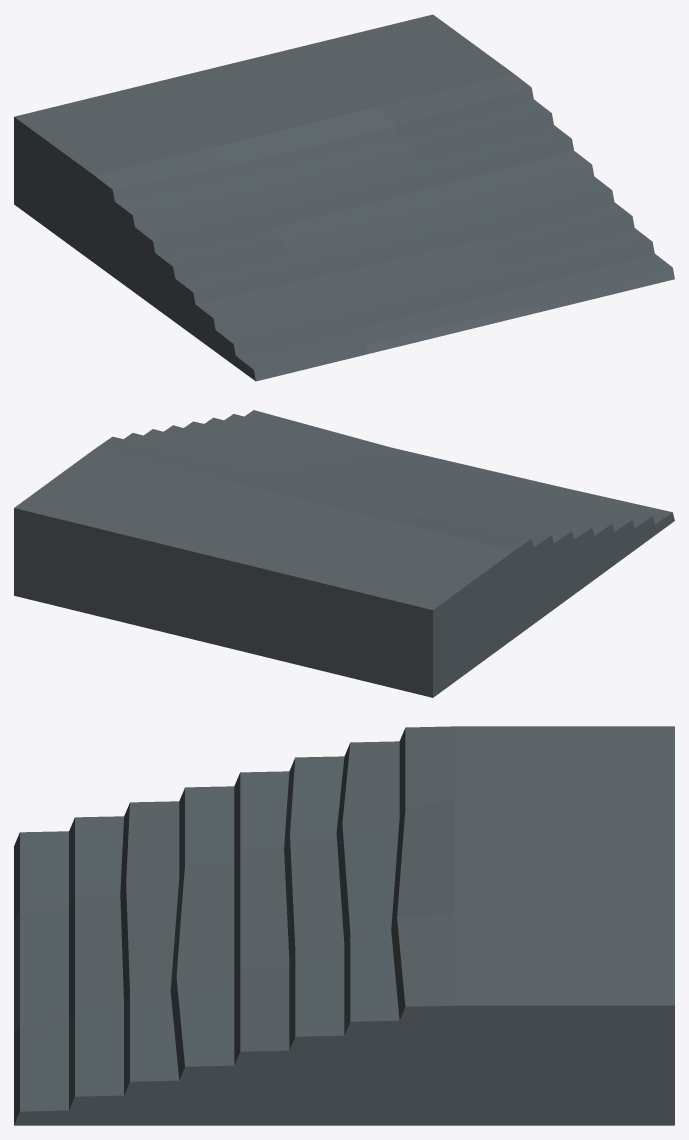
Rendered from SM_Env_Steps_01.FBX.
3 views of the same model, one above another, from view 1: azimuth 30°, elevation 25°; view 2: azimuth 150°, elevation 25°; view 3: azimuth 270°, elevation 25° (orthographic). The views are drawn at different scales.
Parts seen in each view (by area): view 1: SM_Env_Steps_01; view 2: SM_Env_Steps_01; view 3: SM_Env_Steps_01.
Part boxes in pixels (left/top/right/bottom): SM_Env_Steps_01: left=14, top=14, right=674, bottom=381; SM_Env_Steps_01: left=14, top=410, right=674, bottom=697; SM_Env_Steps_01: left=14, top=726, right=674, bottom=1125.
Size of what is drawn, in the model's own units: 500 by 500 by 100.
